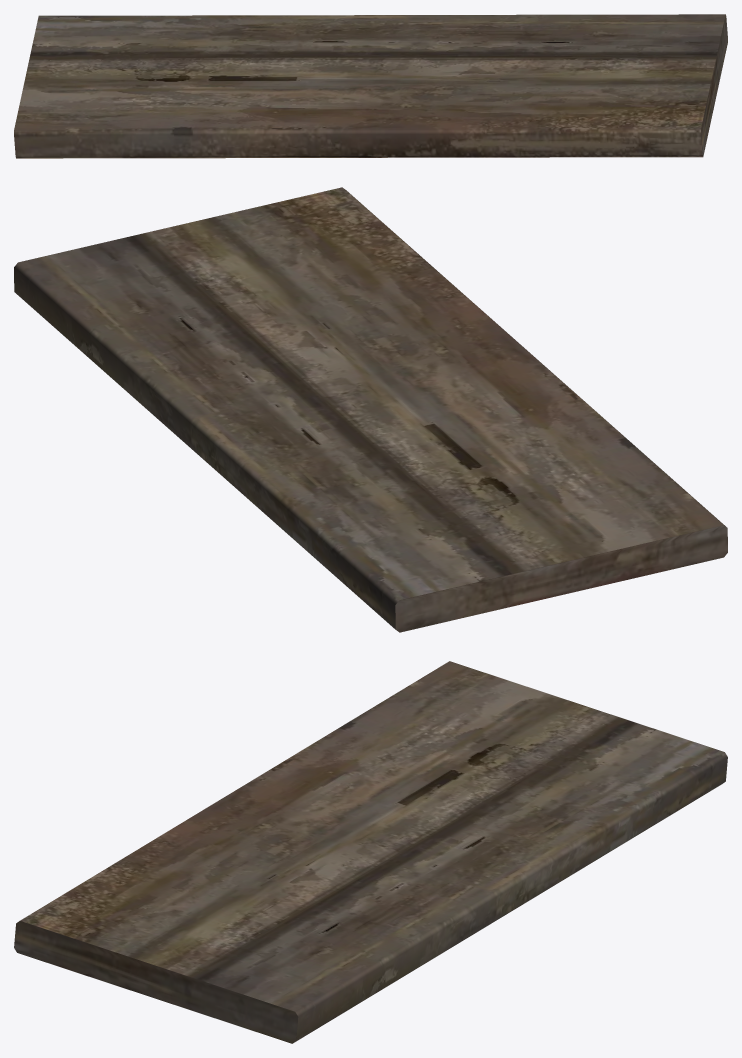
The model's file is WoodPile_2.glb.
3 views of the same model, one above another, from view 1: azimuth 30°, elevation 25°; view 2: azimuth 150°, elevation 25°; view 3: azimuth 270°, elevation 25° (orthographic). The views are drawn at different scales.
Visible parts, largest first — view 1: WoodPile_2; view 2: WoodPile_2; view 3: WoodPile_2.
Part boxes in pixels (x1,y1,x2,y2): WoodPile_2: (14,14,727,158); WoodPile_2: (14,187,727,632); WoodPile_2: (14,661,727,1043).
Bounding box in the file's own units: 1.07 × 0.0843 × 0.8933.
Materials: 1 (1 with a texture image).
